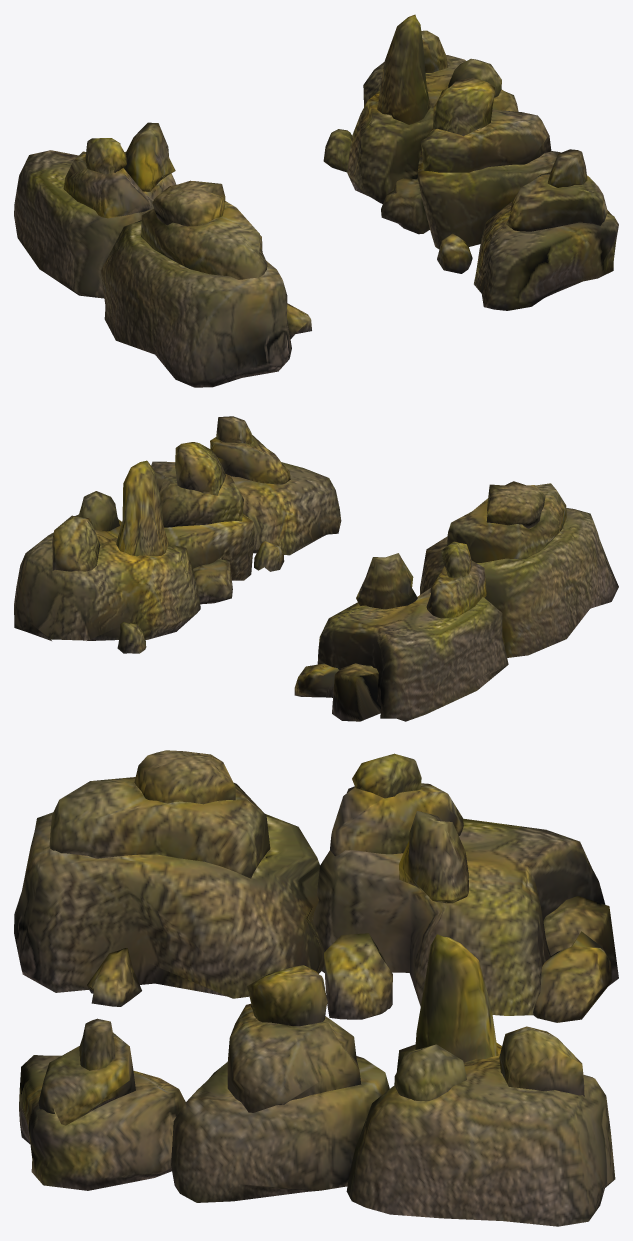
File: Lava_Rock_3.fbx
3 views of the same model, one above another, from view 1: azimuth 30°, elevation 25°; view 2: azimuth 150°, elevation 25°; view 3: azimuth 270°, elevation 25° (orthographic). The views are drawn at different scales.
Visible parts, largest first — view 1: Lava_Rock_3; view 2: Lava_Rock_3; view 3: Lava_Rock_3.
Part boxes in pixels (bbox=[...]): Lava_Rock_3: bbox=[14, 14, 618, 387]; Lava_Rock_3: bbox=[14, 416, 618, 721]; Lava_Rock_3: bbox=[14, 750, 618, 1226].
Bounding box in the file's own units: 15.54 × 5.37 × 12.34.
